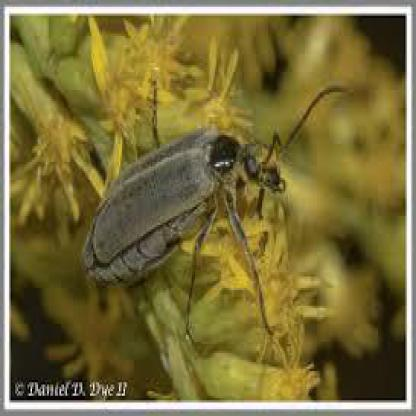blister beetle: (81, 83, 326, 318)
